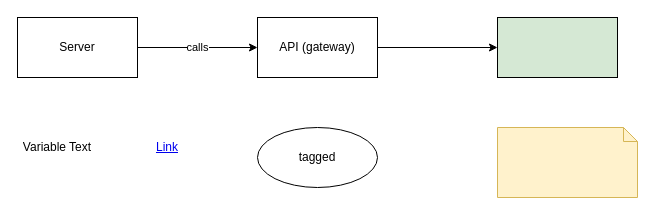
Image size: 655x215. Some labels were removed from this diagram. The shapes that lost their labels are listed below. From the top down, each one's centre as x and y in pixels, then its label:
point 557,47: Service v2.1
point 567,162: Note on a wrapped layer
